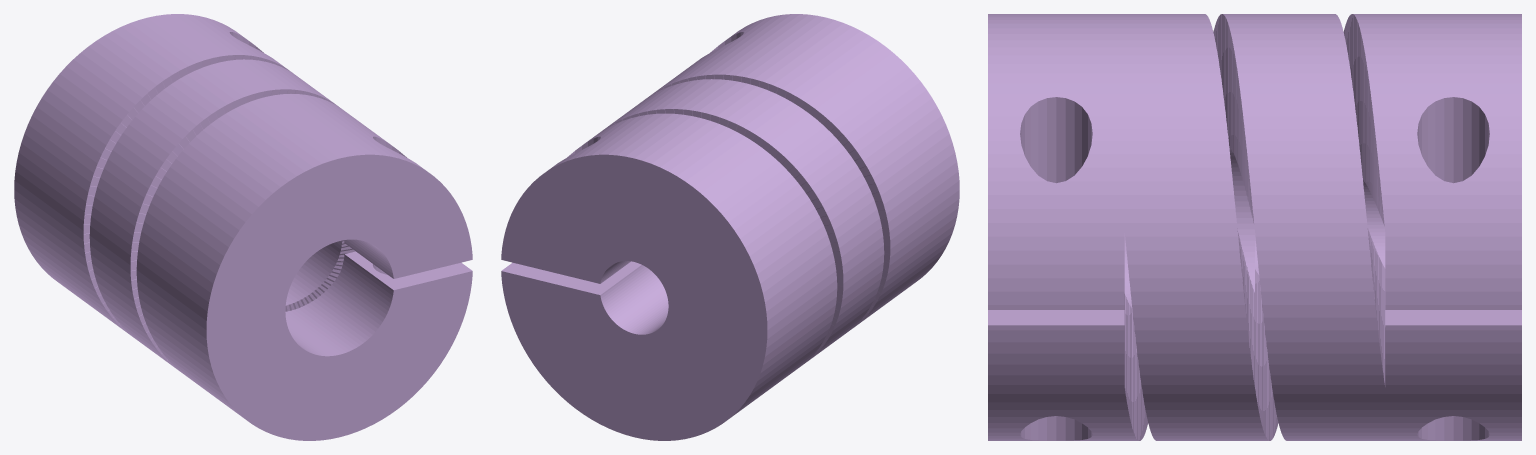
File: beam_coupling_demo.glb
3 renders of one model, left to right at view 1: azimuth 30°, elevation 25°; view 2: azimuth 150°, elevation 25°; view 3: azimuth 270°, elevation 25°, orthographic. The views are drawn at different scales.
Parts seen in each view (by area): view 1: beam_coupling; view 2: beam_coupling; view 3: beam_coupling.
Part boxes in pixels (x1=…): beam_coupling: x1=14, y1=14, x2=472, y2=440; beam_coupling: x1=501, y1=14, x2=959, y2=440; beam_coupling: x1=988, y1=14, x2=1521, y2=440.
Size of the model in its own units: 20 by 20 by 25.
